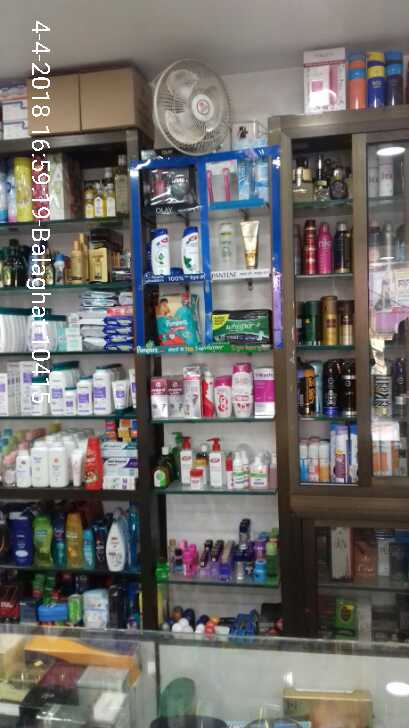venus: (242, 159, 265, 199), (221, 161, 233, 201), (208, 161, 219, 203)
